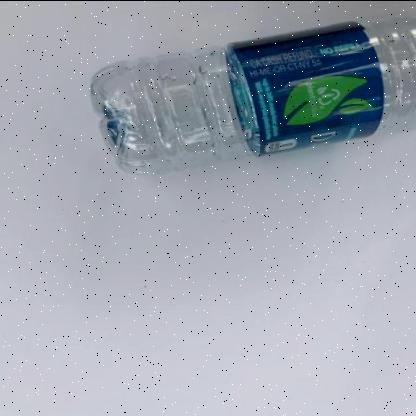Plastic Bottle: (90, 17, 416, 173)
